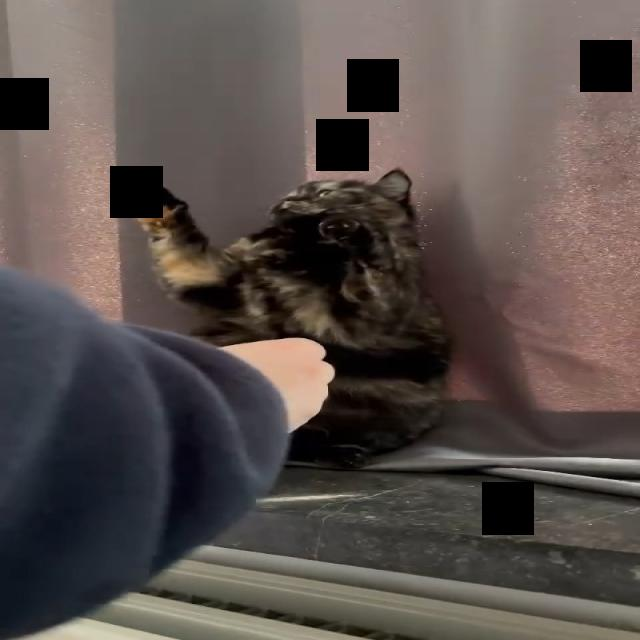authorized: (114, 166, 454, 468)
